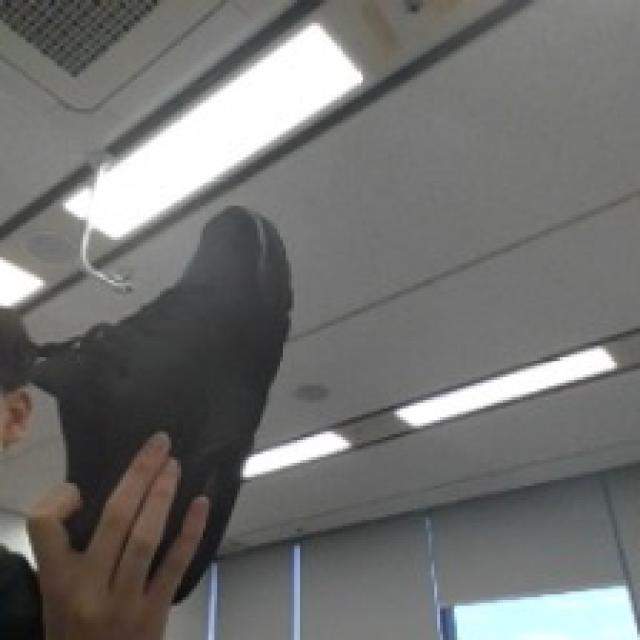shoe: (22, 169, 297, 607)
